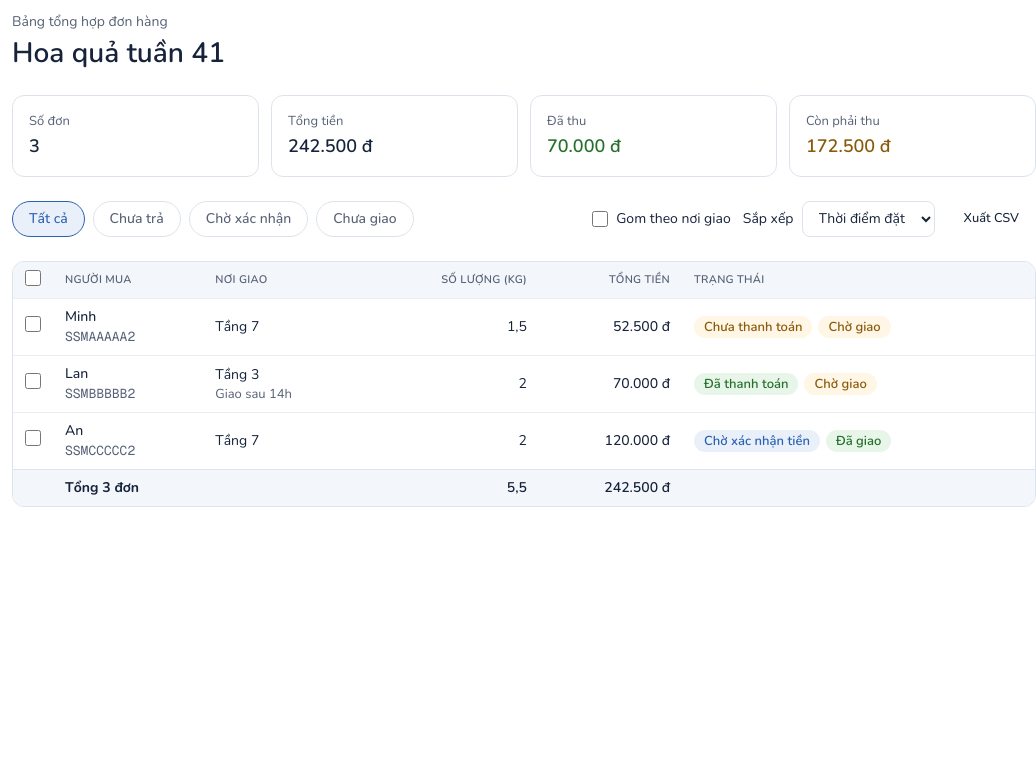
SalesSummary › groups by delivery location with a subtotal per group
The width and height of the screenshot is (1036, 780).
Expected: the row "Minh SSMAAAAA2 Tầng 7 1,5 52.500 đ Chưa thanh toán Chờ giao" is shown, [13,299,1035,356]
Click the checkbox labelled "Gom theo nơi giao": (600, 218) [592,210,608,226]
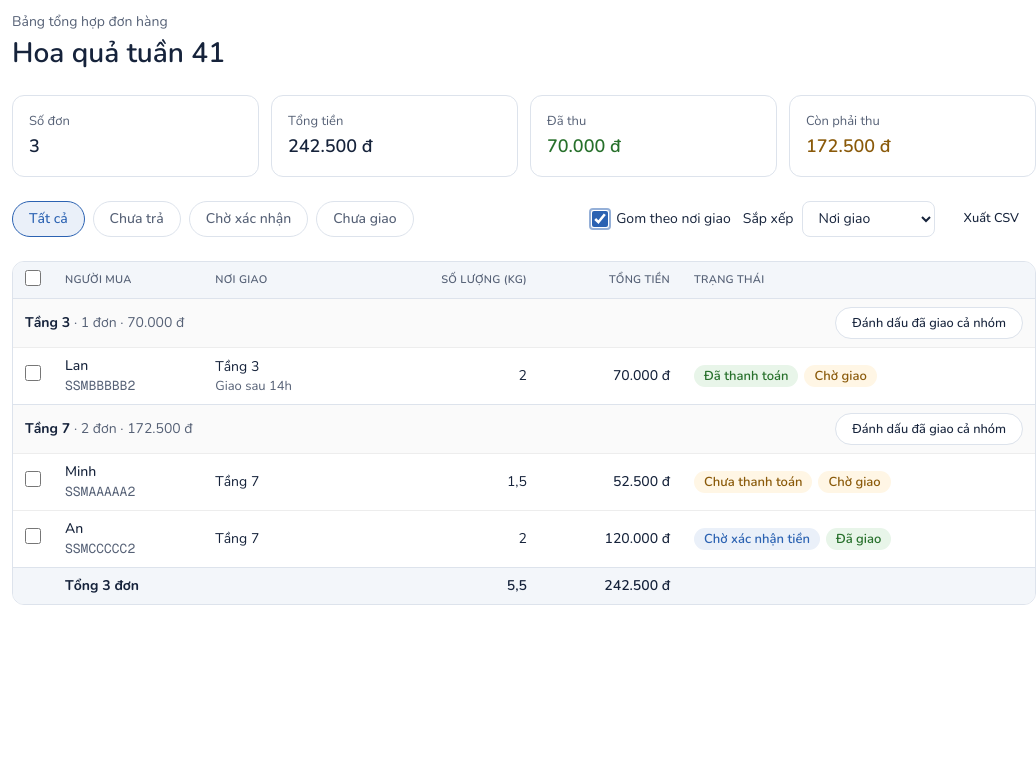
Expected: the row "Tầng 3 · 1 đơn · 70.000 đ Đánh dấu đã giao cả nhóm" is shown, [13,299,1035,348]
Expected: the row "Tầng 7 · 2 đơn · 172.500 đ Đánh dấu đã giao cả nhóm" is shown, [13,405,1035,454]
Expected: the dropdown labelled "Sắp xếp" is disabled, [802,200,934,236]
